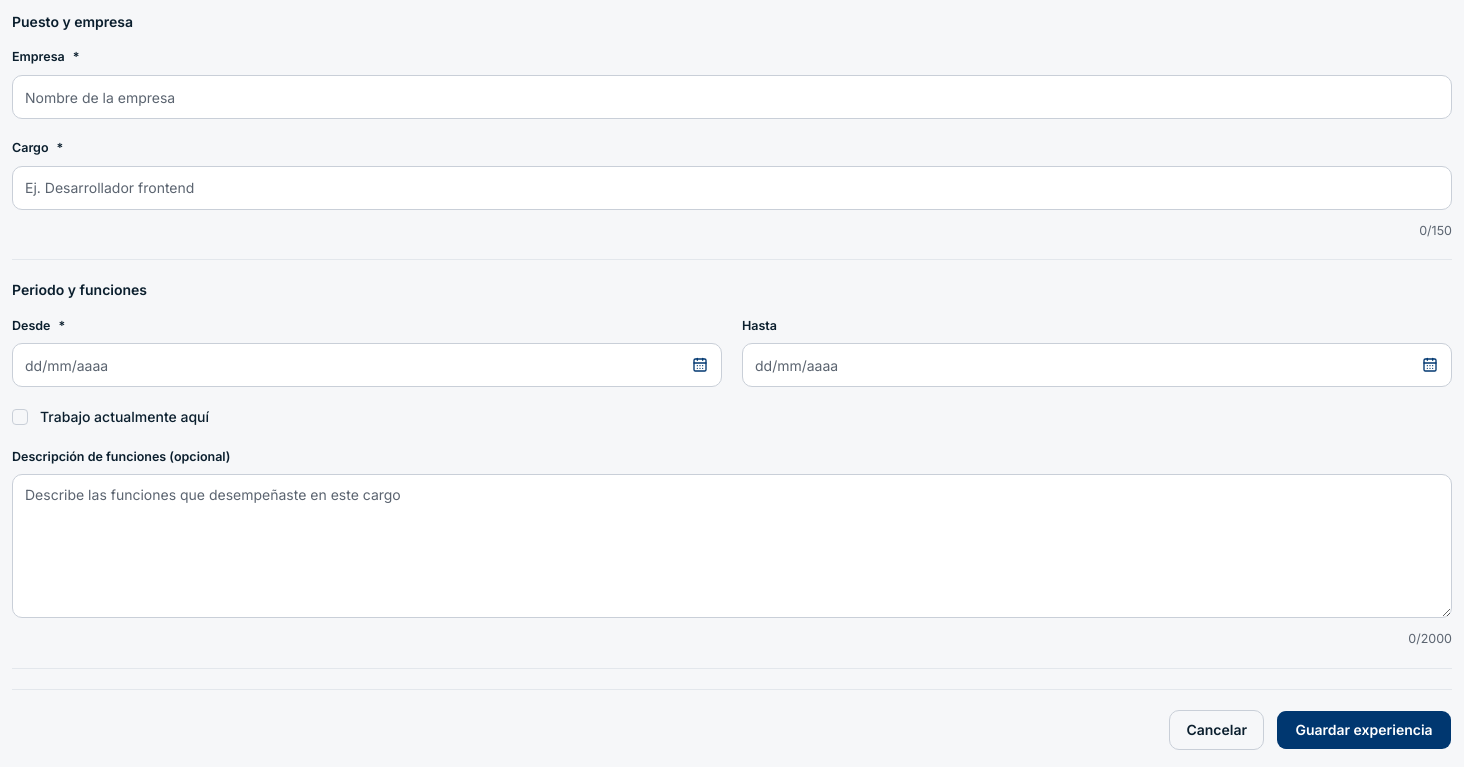
WorkExperienceForm › clears the error of a field when it changes
Click the button "Guardar experiencia" at (1364, 730), box [1276,710,1452,750]
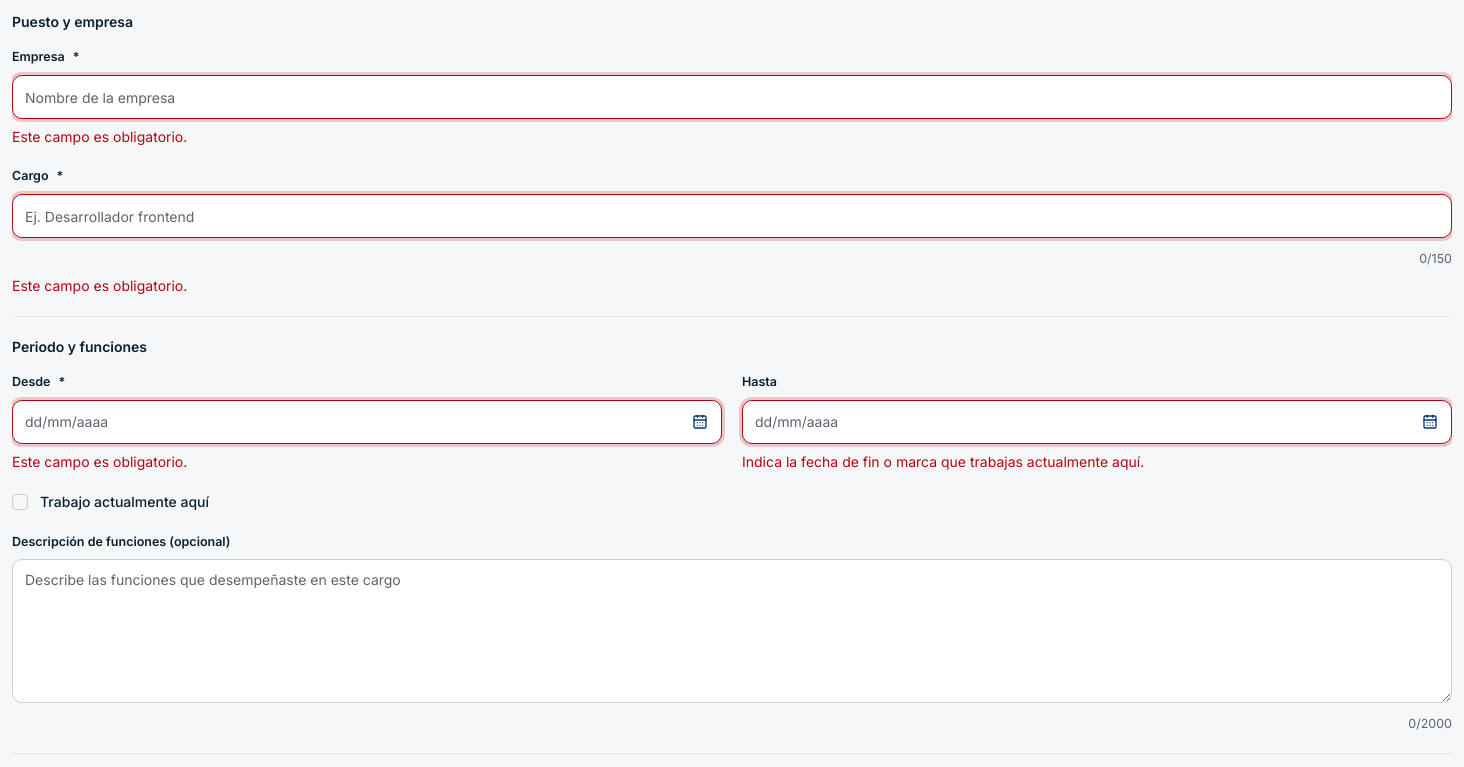
Type "S" into the field labelled "Empresa *" at (732, 97), box [12,75,1452,119]
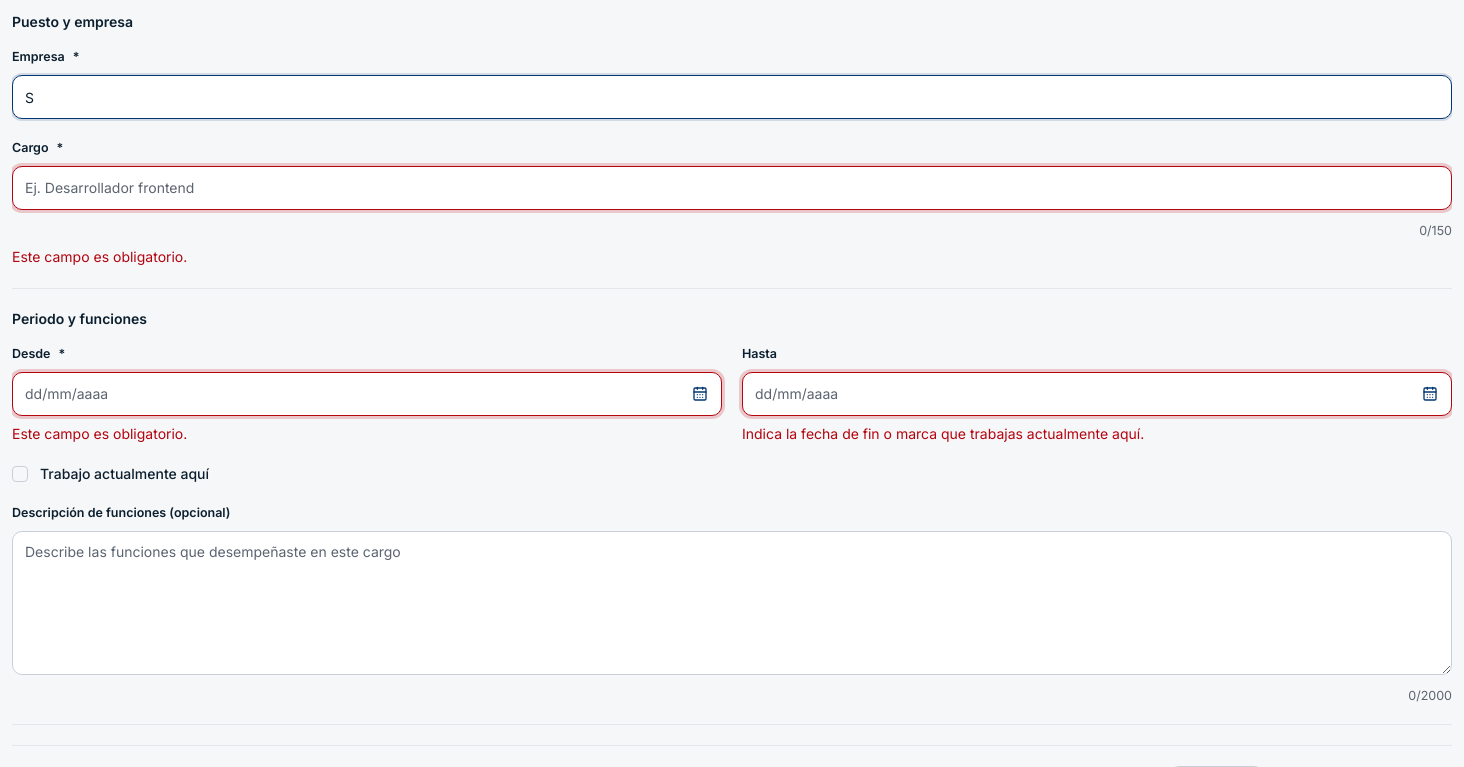
Check: the field labelled "Empresa *" is not marked as invalid, box [12,75,1452,119]
Click the checkbox named "Trabajo actualmente aquí" at (20, 474), box [12,466,28,482]
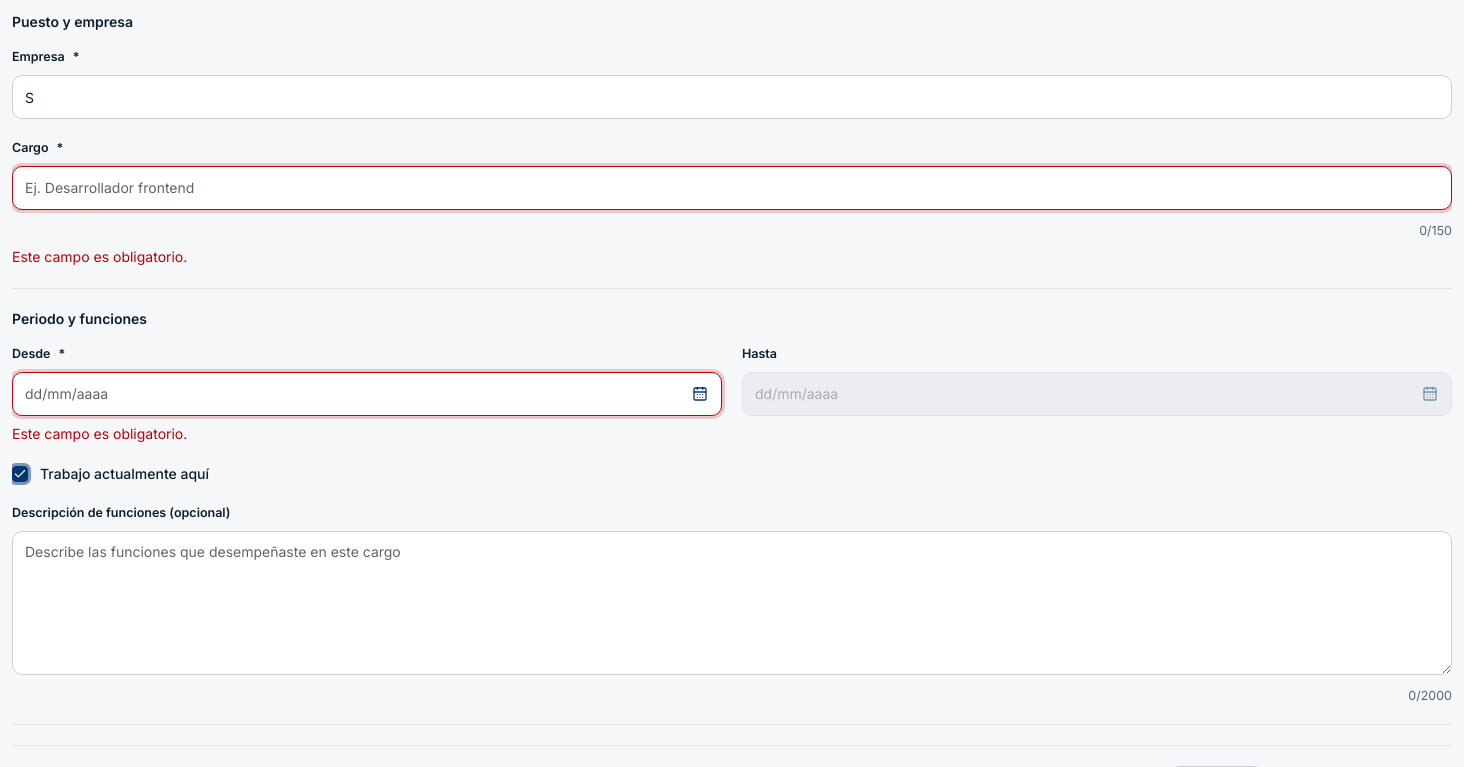
Check: the text "Indica la fecha de fin o marca que trabajas actualmente aquí." is gone
